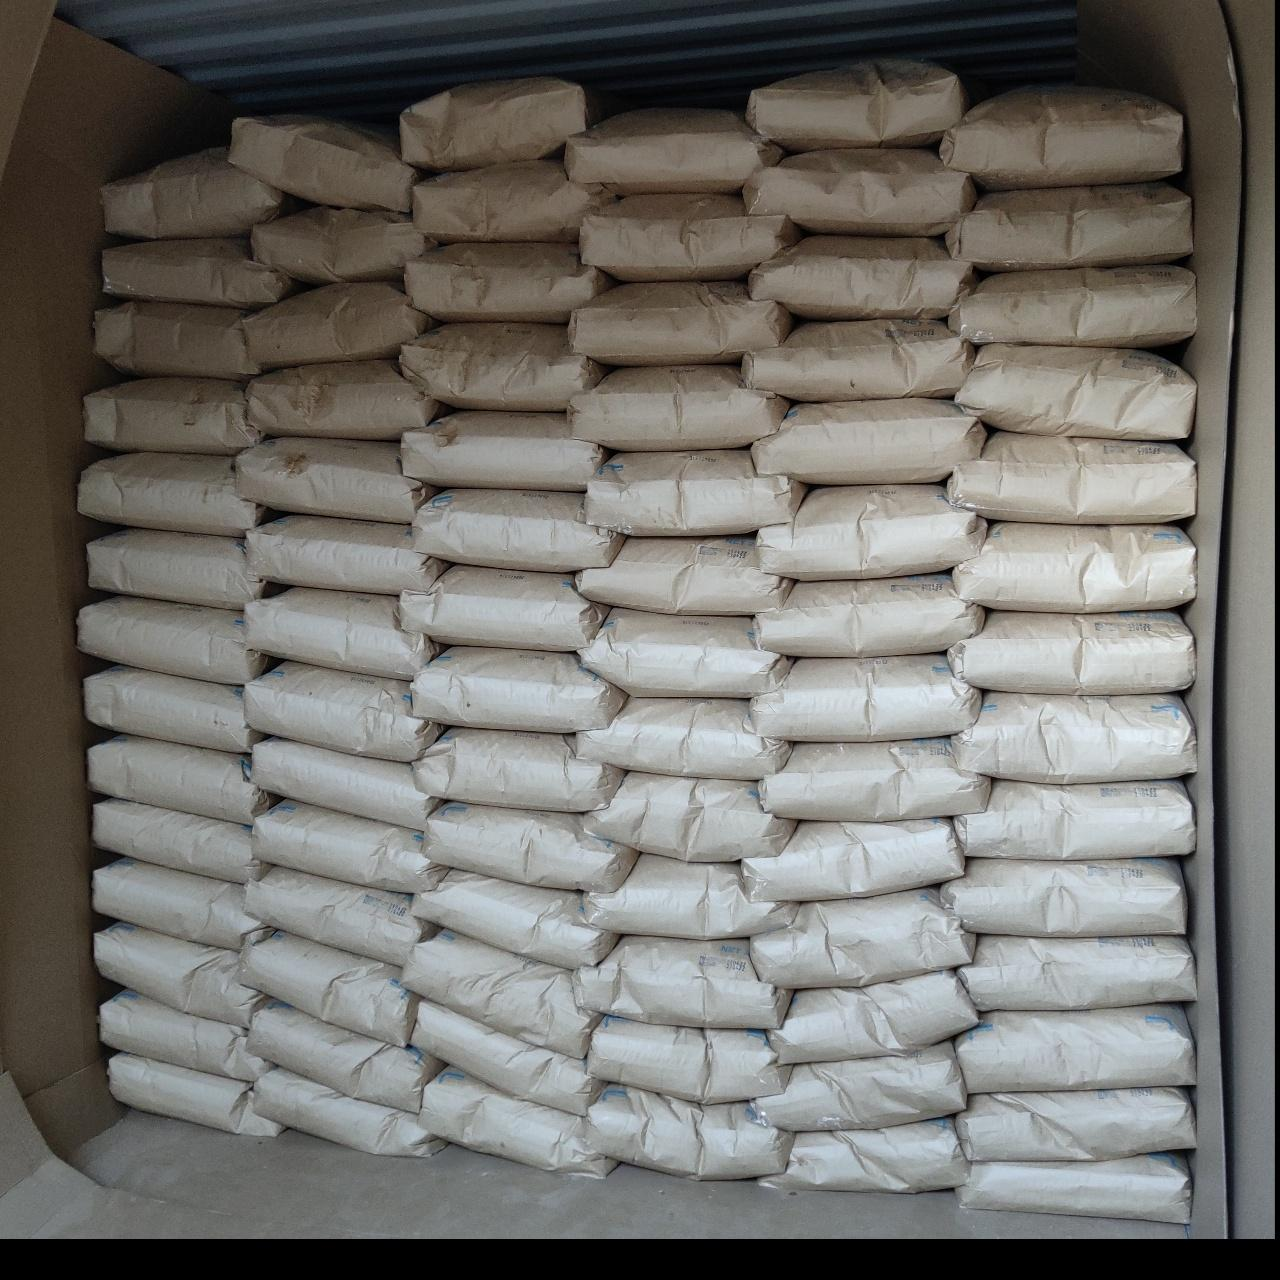sack: (942, 88, 1182, 188), (404, 930, 596, 1054), (948, 432, 1194, 522), (956, 346, 1194, 438), (952, 694, 1196, 782), (752, 890, 972, 986), (946, 184, 1190, 270), (758, 486, 986, 578), (248, 1004, 440, 1110), (420, 1070, 614, 1174), (948, 612, 1194, 694), (954, 524, 1194, 608), (958, 1006, 1192, 1092), (414, 1002, 600, 1110), (950, 266, 1194, 346), (240, 932, 414, 1044), (748, 60, 964, 150), (744, 150, 974, 234), (574, 936, 788, 1026), (752, 656, 980, 740), (416, 870, 614, 966), (584, 1086, 790, 1178), (754, 400, 984, 482), (244, 662, 438, 758), (956, 780, 1194, 858), (942, 858, 1186, 934), (586, 450, 806, 534), (750, 236, 974, 318), (580, 194, 798, 278), (760, 740, 988, 820), (754, 574, 982, 654), (772, 972, 974, 1062), (246, 868, 434, 964), (570, 282, 790, 364), (580, 608, 788, 694), (568, 366, 786, 448), (744, 320, 972, 398), (412, 648, 622, 732), (754, 1042, 964, 1126), (426, 802, 636, 886), (402, 78, 598, 168), (566, 110, 780, 192), (586, 774, 790, 860), (254, 800, 444, 892), (584, 854, 792, 938), (744, 820, 962, 900), (249, 1068, 447, 1156), (960, 936, 1194, 1010), (400, 566, 606, 650), (230, 118, 418, 210), (244, 588, 436, 678), (414, 728, 622, 810), (576, 698, 788, 778), (250, 740, 438, 830), (412, 490, 622, 570), (102, 148, 288, 238), (400, 324, 604, 406), (590, 1018, 788, 1102), (956, 1088, 1192, 1158), (78, 596, 270, 682), (96, 924, 264, 1022), (414, 160, 614, 242), (94, 858, 270, 950), (578, 538, 790, 614), (88, 736, 272, 822), (958, 1154, 1190, 1222), (402, 412, 604, 490), (406, 244, 612, 320), (246, 360, 442, 438), (244, 284, 430, 366), (236, 440, 430, 518), (246, 516, 444, 592), (760, 1118, 966, 1190), (80, 454, 264, 534), (86, 666, 260, 750), (102, 992, 270, 1078), (94, 800, 266, 880), (252, 206, 432, 282), (110, 1054, 280, 1134), (102, 238, 294, 308), (88, 530, 264, 606), (84, 378, 262, 452), (98, 302, 260, 380)
